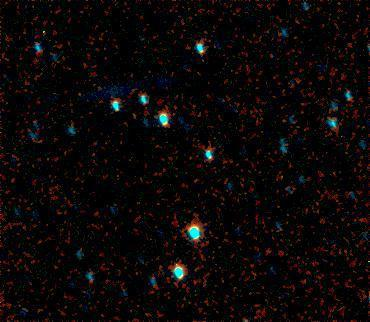star: (192, 43, 222, 73)
